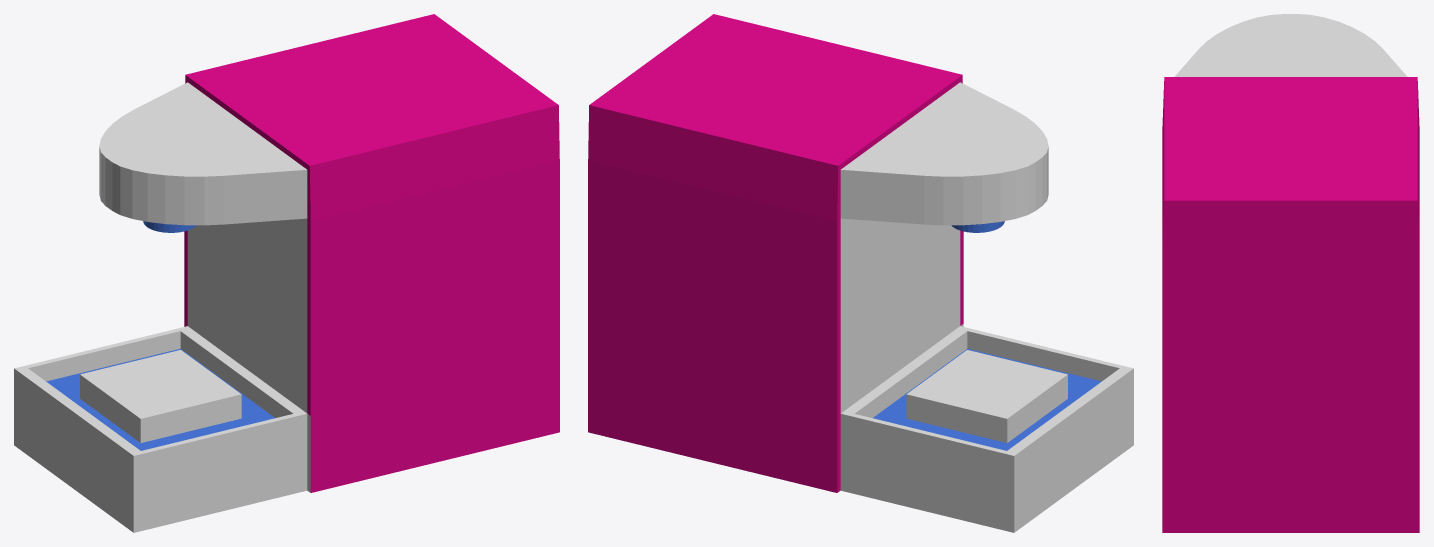
Rendered from DrinkMachine.fbx.
The picture shows the model from 3 angles, left to right: view 1: azimuth 30°, elevation 25°; view 2: azimuth 150°, elevation 25°; view 3: azimuth 270°, elevation 25°; orthographic projection.
Parts seen in each view (by area): view 1: DrinkMachine; view 2: DrinkMachine; view 3: DrinkMachine.
Part boxes in pixels (bbox=[...]): DrinkMachine: bbox=[14, 14, 559, 532]; DrinkMachine: bbox=[588, 14, 1133, 532]; DrinkMachine: bbox=[1162, 14, 1419, 532].
Bounding box in the file's own units: 1283 × 947 × 665.
